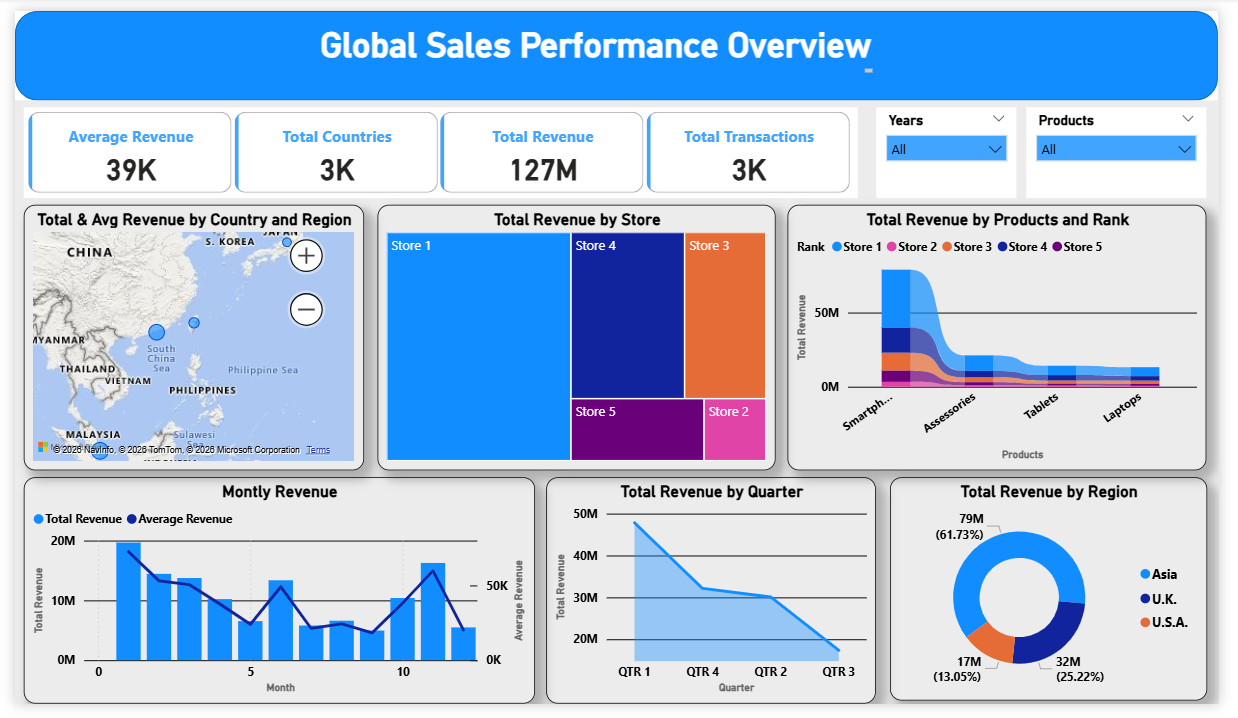

This screenshot's page, from the dashboard's own definition file:
{"tool":"powerbi","page":{"name":"Dashboard","canvas":[1250,720],"ordinal":0},"visuals":[{"type":"lineStackedColumnComboChart","title":"Montly Revenue","fields":{"Y":["Measures (2).Total Revenue"],"Y2":["Measures (2).Average Revenue"],"Category":["Sheet1.Month"]},"box":[9.7,485,530.8,235.3],"z":0},{"type":"pivotTable","fields":{"Rows":["Sheet1.Sales Reps"],"Values":["Measures (2).Total Transactions","Measures (2).Total Revenue","Measures (2).Average Revenue"]},"box":[1538.2,1023,462.5,452.4],"z":1000},{"type":"donutChart","fields":{"Category":["Sheet1.Region"],"Y":["Measures (2).Total Revenue"]},"box":[908.4,485,329.4,231.6],"z":2000},{"type":"ribbonChart","fields":{"Category":["Sheet1.Products"],"Y":["Measures (2).Total Revenue"],"Series":["Sheet1.Rank"]},"box":[802.3,201.5,435.5,276.3],"z":3000},{"type":"areaChart","fields":{"Category":["Sheet1.Quarter"],"Y":["Measures (2).Total Revenue"]},"box":[552.5,485,342.6,235.3],"z":4000},{"type":"treemap","title":"Total Revenue by Store","fields":{"Values":["Measures (2).Total Revenue"],"Group":["Sheet1.Rank"]},"box":[376.4,201.5,413.8,276.3],"z":5000},{"type":"map","title":"Total & Avg Revenue by Country and Region","fields":{"Size":["Measures (2).Total Revenue"],"Category":["Sheet1.Country"]},"box":[9.7,201.5,353.5,276.3],"z":6000},{"type":"cardVisual","fields":{"Data":["Measures (2).Average Revenue","Measures (2).Total Countries","Measures (2).Total Revenue","Measures (2).Total Transactions"]},"box":[9.7,100.1,866.2,94.1],"z":7000},{"type":"shape","box":[0,0,1249.9,92.9],"z":8000},{"type":"slicer","fields":{"Values":["Sheet1.Years"]},"box":[895.2,100.1,146,94.1],"z":9000},{"type":"slicer","fields":{"Values":["Sheet1.Products"]},"box":[1050.8,100.1,187,94.1],"z":10000},{"type":"textbox","title":"Global Sales Performance Overview","box":[311.3,14.5,583.9,54.3],"z":11000}]}

Visuals, with their boxes in screenshot pixels (x1, y1, x2, y2), scaled from the page's 1250x720 canvas onto the 1238x718 screenshot:
"Montly Revenue" lineStackedColumnComboChart: BBox(10, 484, 535, 717)
donutChart - Sheet1.Region x Measures (2).Total Revenue: BBox(900, 484, 1226, 715)
ribbonChart - Sheet1.Products x Measures (2).Total Revenue: BBox(795, 201, 1226, 476)
areaChart - Sheet1.Quarter x Measures (2).Total Revenue: BBox(547, 484, 887, 717)
"Total Revenue by Store" treemap: BBox(373, 201, 783, 476)
"Total & Avg Revenue by Country and Region" map: BBox(10, 201, 360, 476)
cardVisual - Measures (2).Average Revenue x Measures (2).Total Countries: BBox(10, 100, 867, 194)
shape: BBox(0, 0, 1237, 93)
slicer - Sheet1.Years: BBox(887, 100, 1031, 194)
slicer - Sheet1.Products: BBox(1041, 100, 1226, 194)
"Global Sales Performance Overview" textbox: BBox(308, 14, 887, 69)
